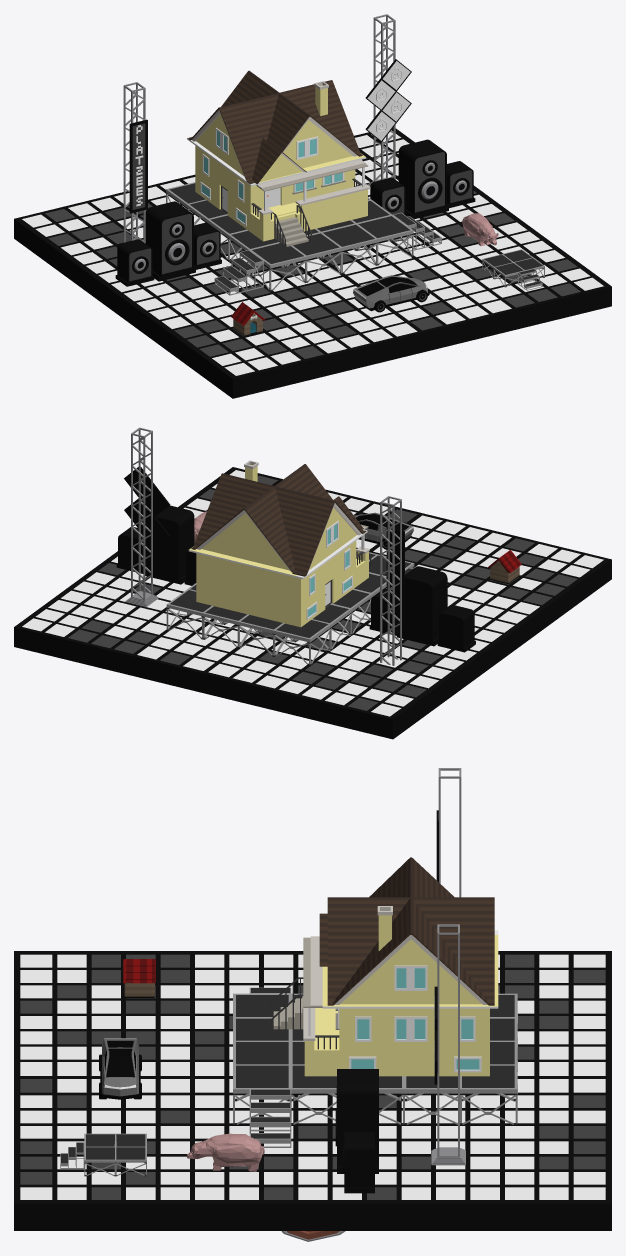
3 views of the same model, one above another, from view 1: azimuth 30°, elevation 25°; view 2: azimuth 150°, elevation 25°; view 3: azimuth 270°, elevation 25° (orthographic). The views are drawn at different scales.
Visible parts, largest first — view 1: Cube.008, Cube.1555, VEHICLES_CYBERTRUCK, ANIMAL_HIPOPOTAMO, OBJRANDOM_DOGHOUSE; view 2: Cube.008, Cube.1555, VEHICLES_CYBERTRUCK, OBJRANDOM_DOGHOUSE; view 3: Cube.008, Cube.1555, VEHICLES_CYBERTRUCK, ANIMAL_HIPOPOTAMO, OBJRANDOM_DOGHOUSE.
Part boxes in pixels (box(x1,y1,x2,y2)): Cube.008: box(14, 14, 611, 398); Cube.1555: box(187, 70, 370, 247); VEHICLES_CYBERTRUCK: box(353, 275, 429, 312); ANIMAL_HIPOPOTAMO: box(462, 213, 498, 246); OBJRANDOM_DOGHOUSE: box(231, 302, 264, 336); Cube.008: box(14, 427, 611, 739); Cube.1555: box(188, 460, 371, 627); VEHICLES_CYBERTRUCK: box(354, 512, 413, 549); OBJRANDOM_DOGHOUSE: box(487, 550, 521, 583); Cube.008: box(14, 768, 611, 1230); Cube.1555: box(271, 857, 498, 1076); VEHICLES_CYBERTRUCK: box(99, 1038, 141, 1099); ANIMAL_HIPOPOTAMO: box(187, 1133, 264, 1171); OBJRANDOM_DOGHOUSE: box(123, 959, 156, 997).
Size of the model in its own units: 4000 by 2688 by 4000.
45 materials, 1 textured.
